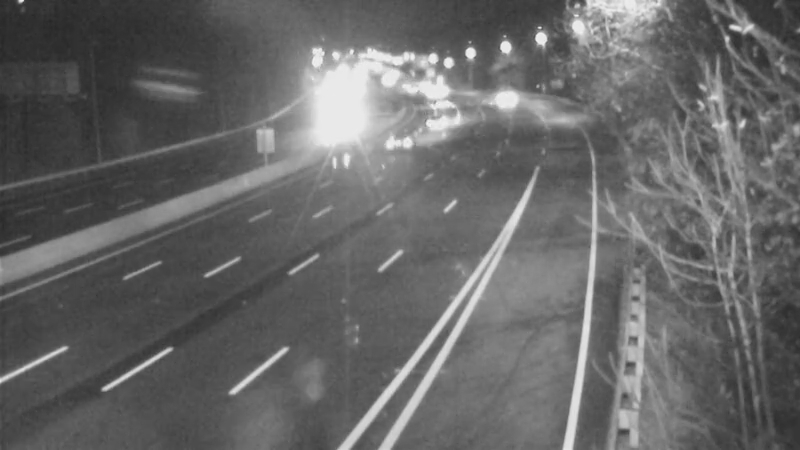vehicle: (384, 62, 434, 112), (404, 69, 454, 119), (417, 65, 467, 115), (480, 76, 530, 126), (415, 77, 465, 127), (414, 98, 464, 148), (378, 117, 428, 167)
